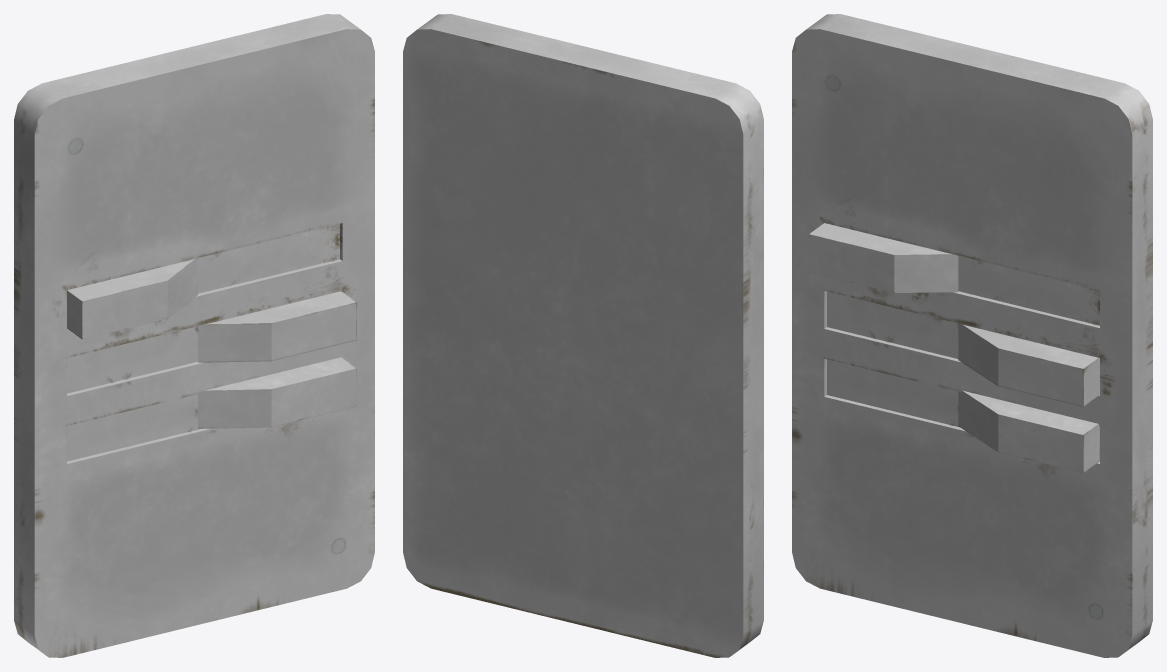
File: Switcher.fbx
3 renders of one model, left to right at view 1: azimuth 30°, elevation 25°; view 2: azimuth 150°, elevation 25°; view 3: azimuth 330°, elevation 25°, orthographic.
Visible parts, largest first — view 1: Switch, Switch button.001, Switch button, Switch button.002; view 2: Switch; view 3: Switch, Switch button.002, Switch button.001, Switch button.
Boxes of the visible parts, box(x1,y1,x2,y2) form: Switch: box(14, 14, 374, 657); Switch button.001: box(198, 291, 356, 362); Switch button: box(198, 357, 356, 428); Switch button.002: box(67, 258, 197, 339); Switch: box(403, 14, 763, 657); Switch: box(792, 14, 1152, 657); Switch button.002: box(809, 223, 958, 292); Switch button.001: box(958, 323, 1099, 406); Switch button: box(958, 390, 1099, 472).
Bounding box in the file's own units: 5.93 × 9.32 × 1.09.
